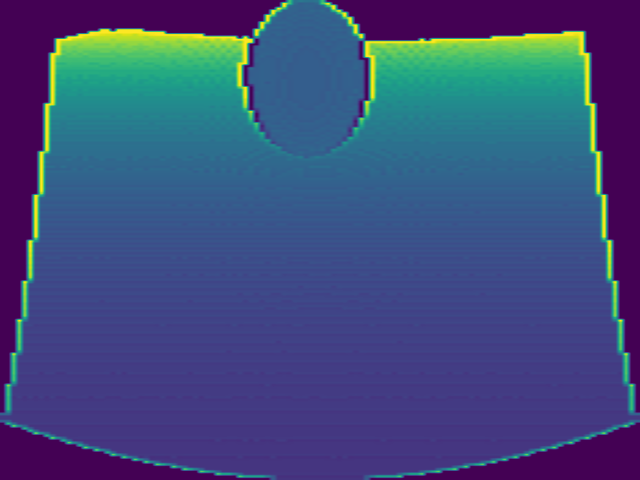sphere: (237, 2, 376, 158)
